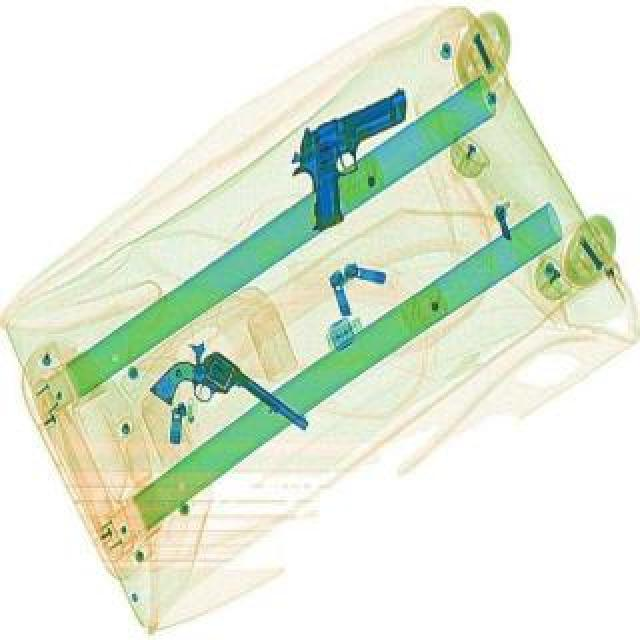gun: (274, 88, 448, 232), (150, 334, 316, 474)
